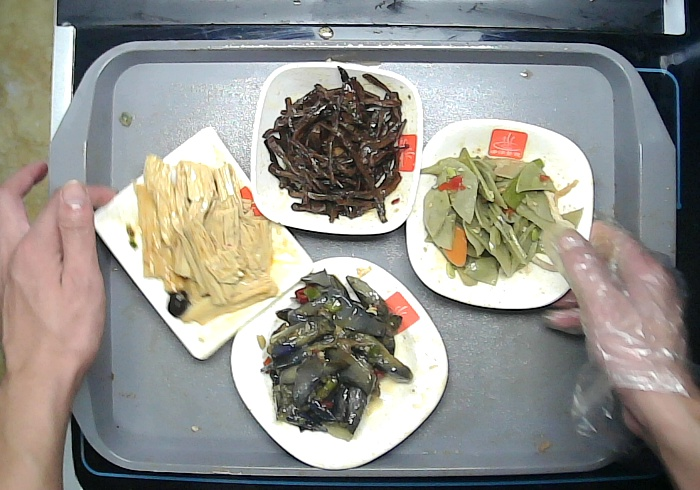SHKJ-Bai_Se_Cai_Die: (405, 119, 598, 310)
SHKJ-Bai_Se_Si_Fang_Cai_Die: (228, 256, 451, 472)
SHKJ-Bai_Se_Xiao_Fang_Die: (249, 60, 422, 238)
SHKJ-Si_Fang_Min: (90, 127, 313, 360)
